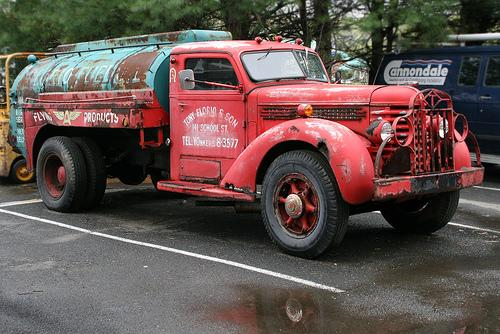truck: (14, 37, 464, 229)
